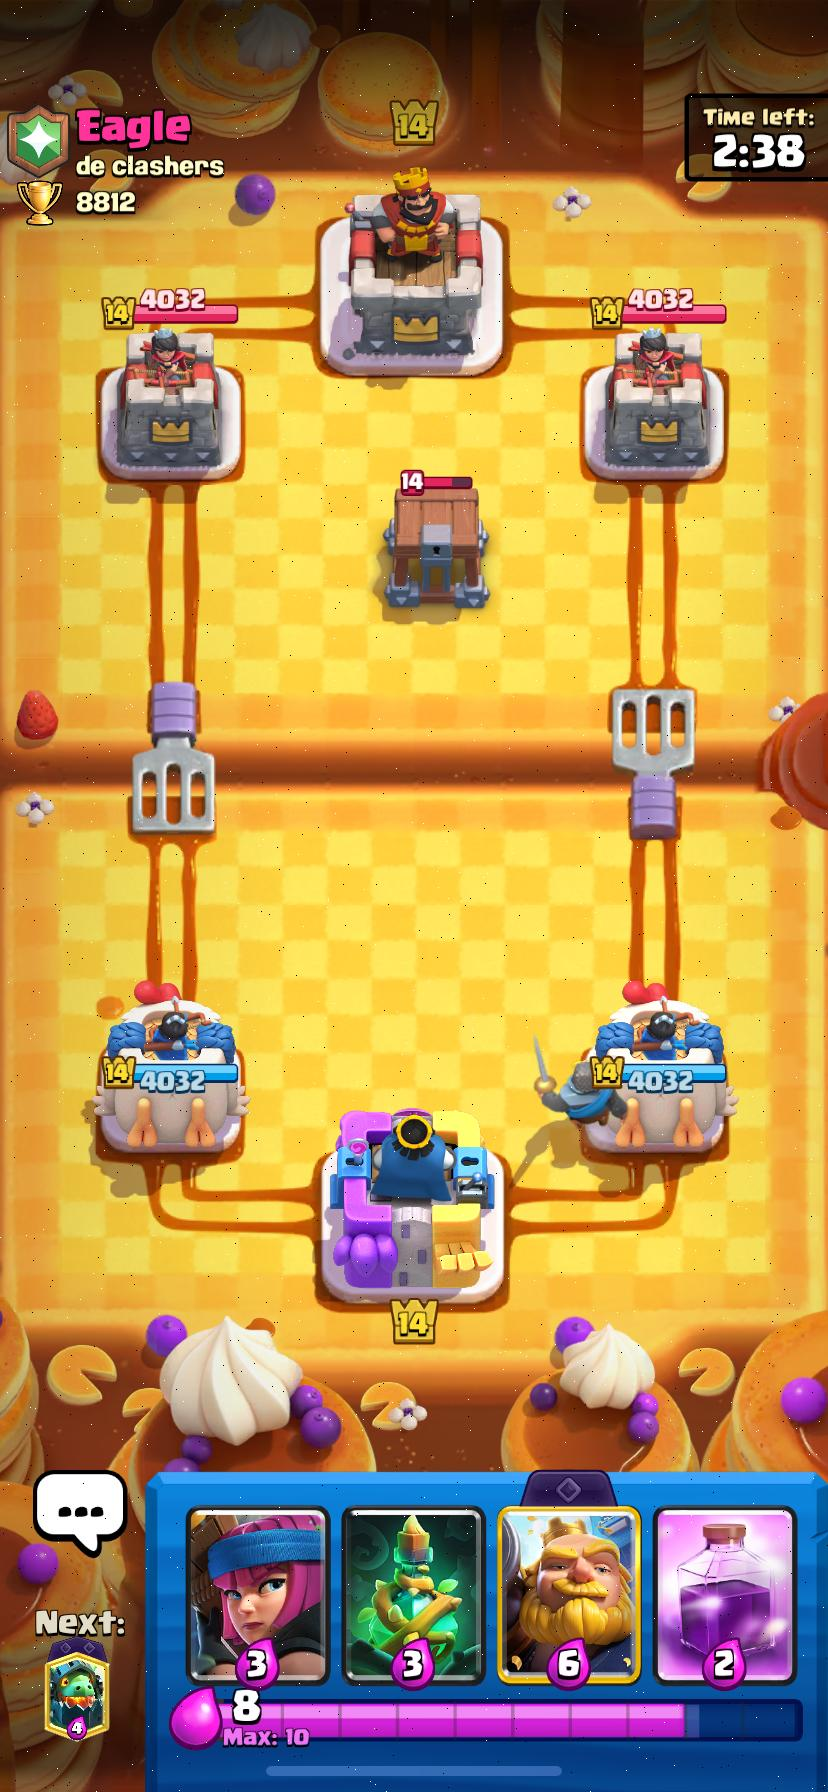EGoblinCage: (384, 470, 489, 607)
EKingTower: (337, 169, 502, 374)
EnemyPrincessTower: (101, 326, 241, 480), (586, 328, 724, 480)
OKnight: (554, 1053, 626, 1125)
OwnKingTower: (323, 1109, 503, 1302)
OwnPrincessTower: (93, 983, 248, 1151), (587, 982, 737, 1151)
